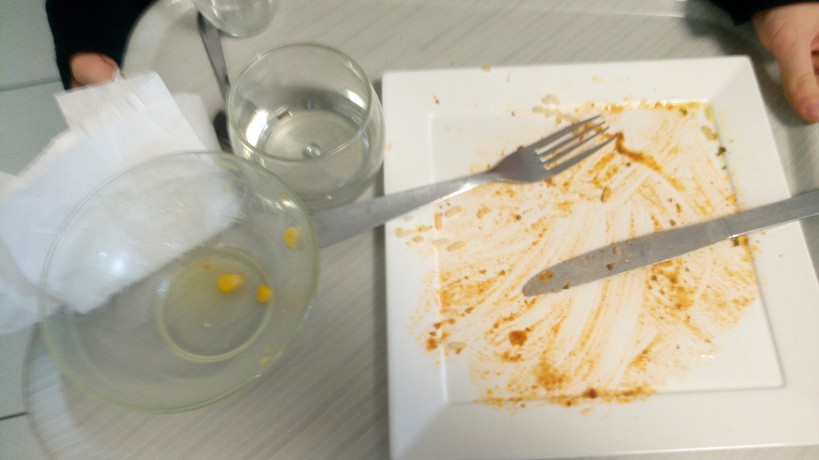cutlery: (285, 111, 628, 255), (519, 191, 819, 301)
trash: (19, 95, 231, 279)
